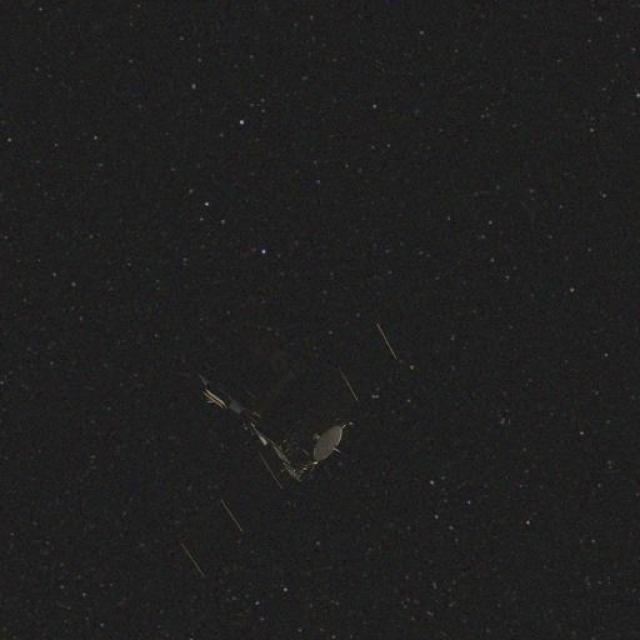soho: (179, 304, 392, 504)
